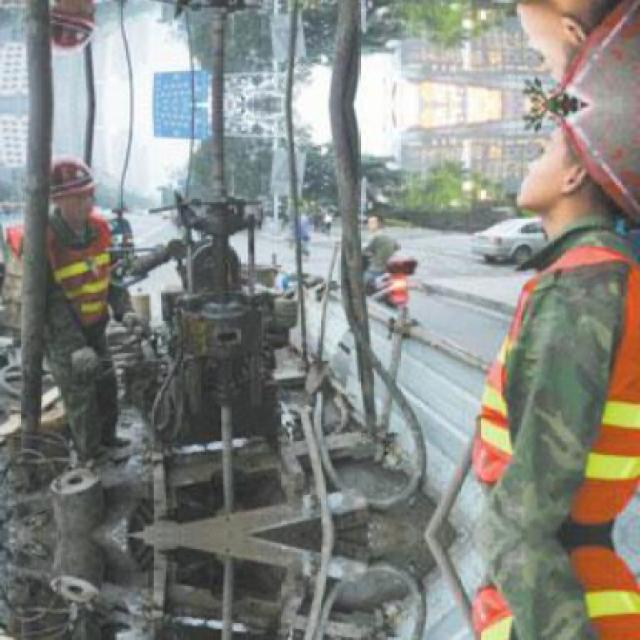Reflective-Jacket: (463, 241, 637, 534), (34, 212, 131, 346)
Safety-Helmet: (524, 91, 640, 222), (37, 150, 108, 208)
